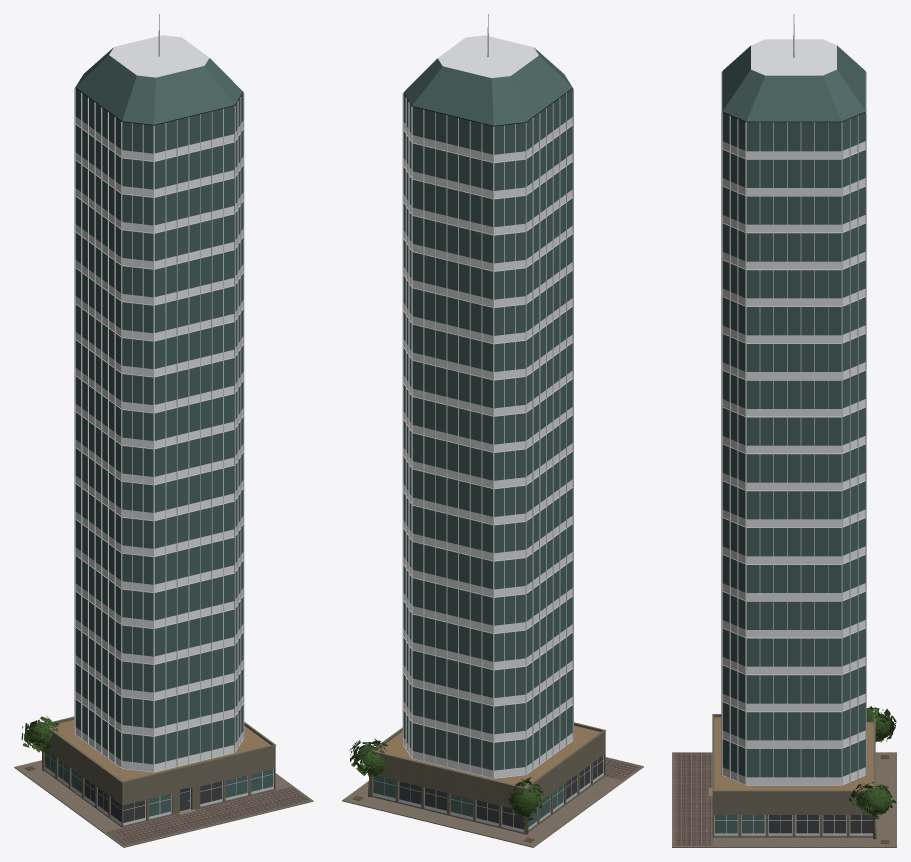
Rendered from sky_octagon.glb.
3 views of the same model, side by side, from view 1: azimuth 30°, elevation 25°; view 2: azimuth 150°, elevation 25°; view 3: azimuth 270°, elevation 25° (orthographic). The views are drawn at different scales.
Parts seen in each view (by area): view 1: sky_octagon_body, sky_octagon_foliage; view 2: sky_octagon_body, sky_octagon_foliage; view 3: sky_octagon_body, sky_octagon_foliage.
Boxes of the visible parts, <box> form: sky_octagon_body: <box>14,14,313,847</box>; sky_octagon_foliage: <box>21,716,59,752</box>; sky_octagon_body: <box>342,14,643,847</box>; sky_octagon_foliage: <box>349,738,544,821</box>; sky_octagon_body: <box>672,14,896,847</box>; sky_octagon_foliage: <box>849,706,896,819</box>.
Bounding box in the file's own units: 0.94 × 3.63 × 0.94.
18 materials, 10 textured.
